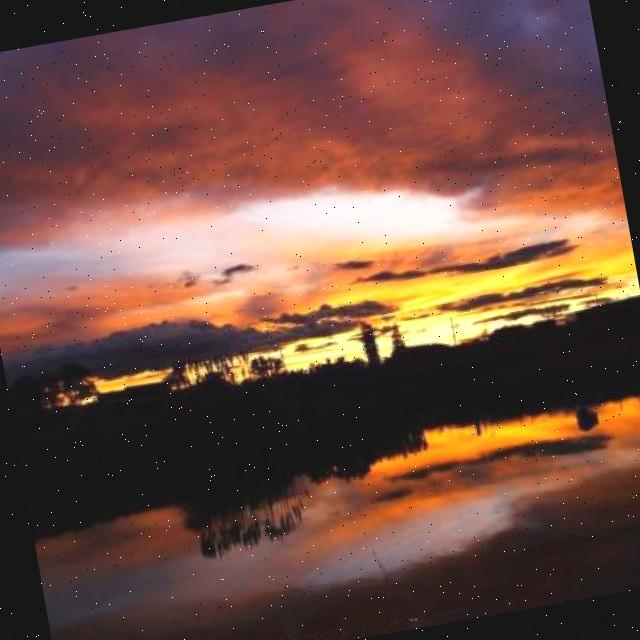As: (1, 26, 636, 380)
